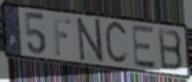5: (23, 11, 48, 57)
B: (156, 26, 184, 73)
C: (103, 19, 130, 68)
E: (131, 25, 158, 70)
F: (51, 15, 73, 58)
N: (75, 17, 105, 64)
